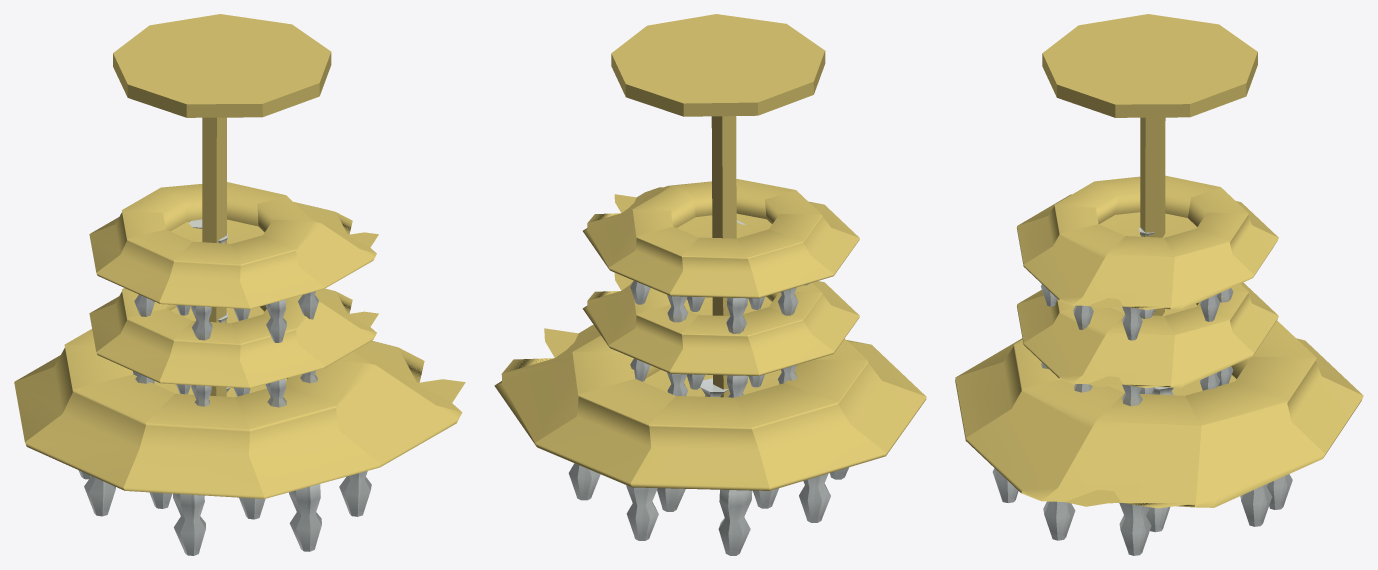
Rendered from chandAlpha.fbx.
3 renders of one model, left to right at view 1: azimuth 30°, elevation 25°; view 2: azimuth 150°, elevation 25°; view 3: azimuth 270°, elevation 25°, orthographic. The views are drawn at different scales.
Visible parts, largest first — view 1: chndAlpha_PLY; view 2: chndAlpha_PLY; view 3: chndAlpha_PLY.
Part boxes in pixels (bbox=[...]): chndAlpha_PLY: bbox=[14, 14, 465, 555]; chndAlpha_PLY: bbox=[494, 14, 926, 555]; chndAlpha_PLY: bbox=[955, 14, 1363, 555].
Size of the model in its own units: 3.93 by 4.24 by 3.57.
